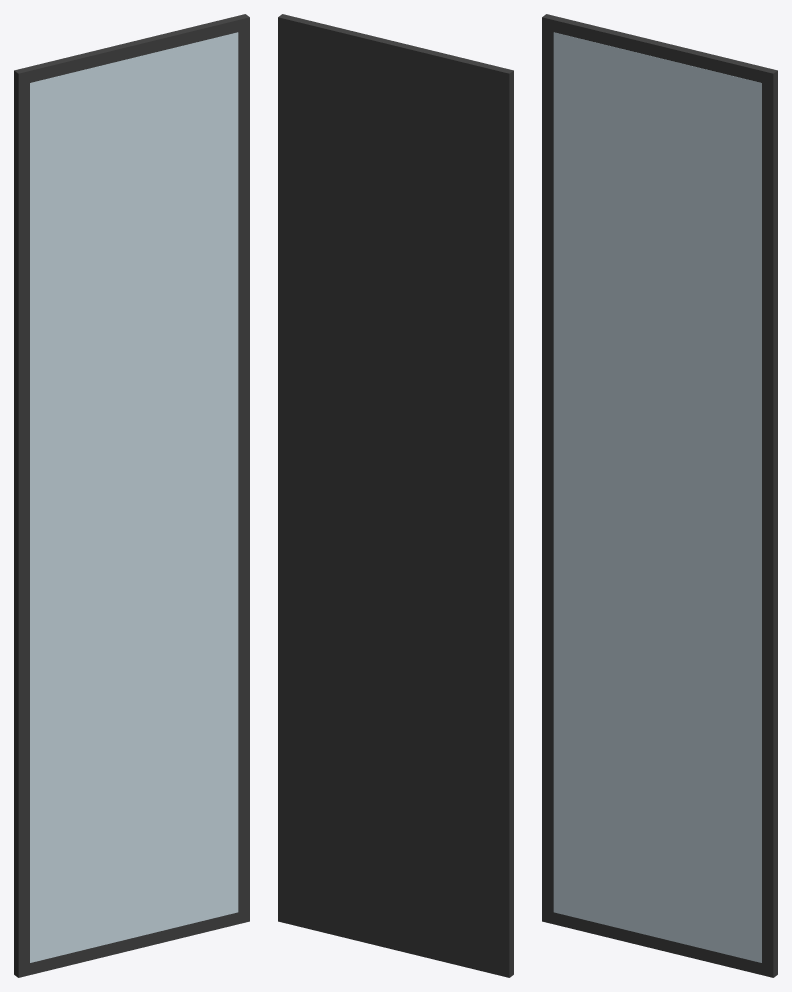
File: mirror.glb
3 renders of one model, left to right at view 1: azimuth 30°, elevation 25°; view 2: azimuth 150°, elevation 25°; view 3: azimuth 330°, elevation 25°, orthographic.
Bounding box in the file's own units: 15 × 56 × 0.51.
